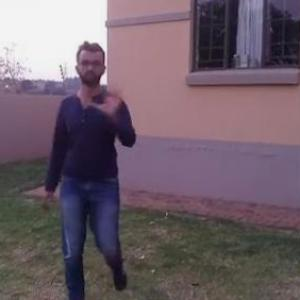follow_hand: (90, 77, 130, 117)
